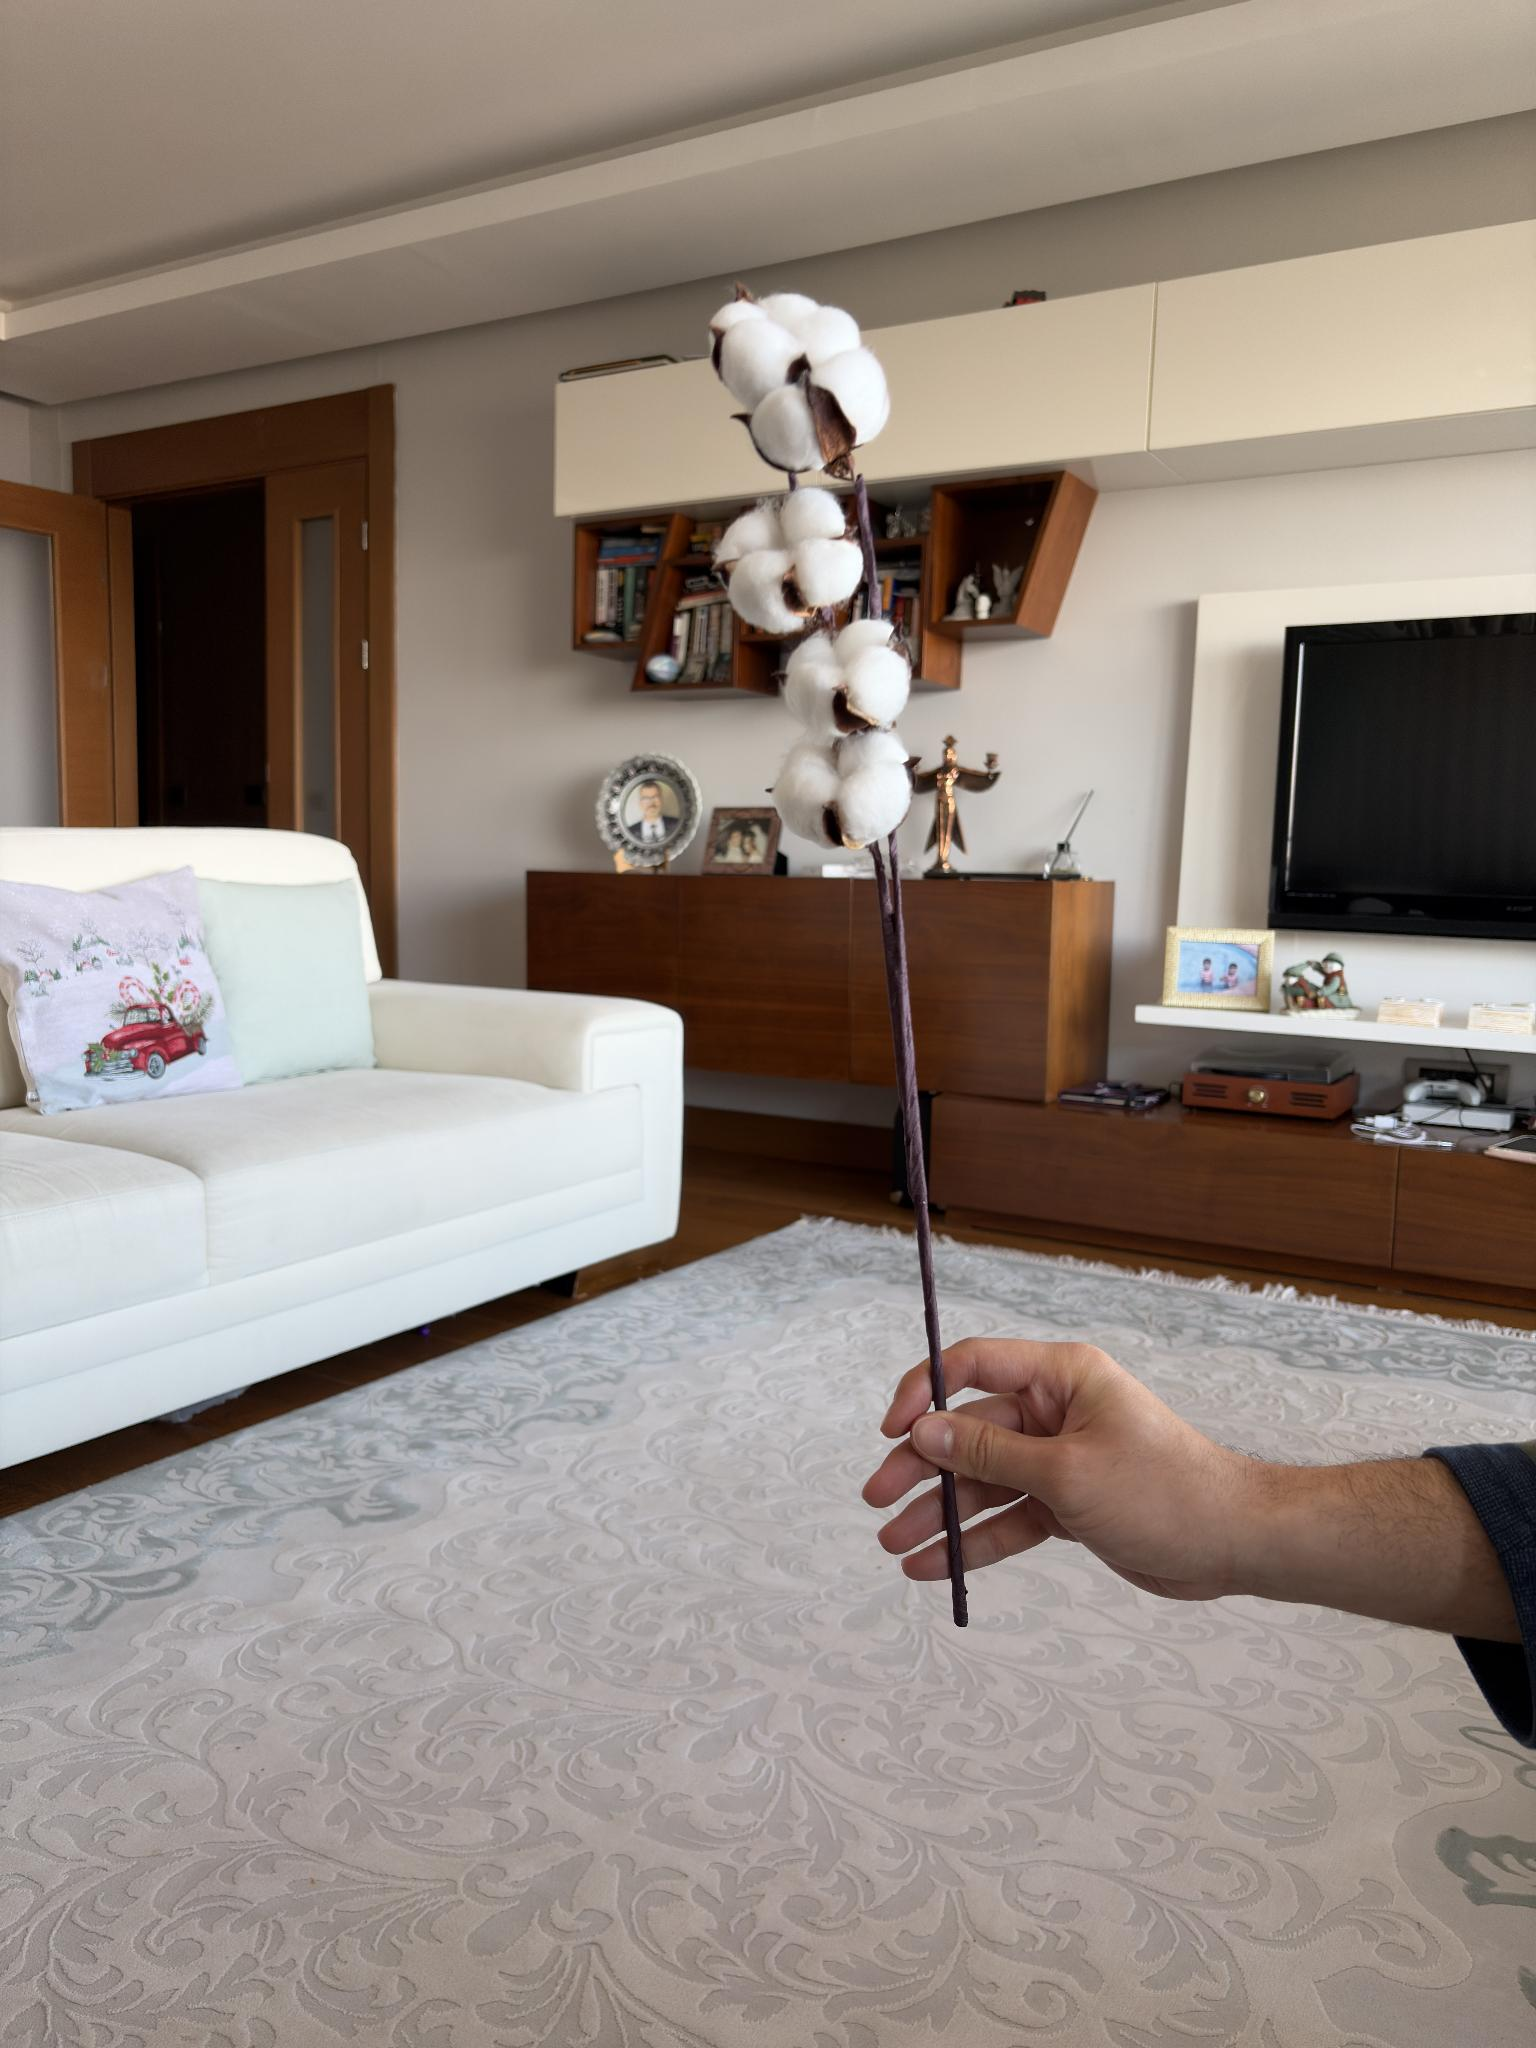cotton_boll: (834, 731, 912, 847), (810, 347, 891, 447), (718, 318, 802, 413), (737, 381, 823, 472), (771, 739, 841, 847), (762, 293, 860, 368), (837, 626, 908, 727), (729, 548, 812, 634), (784, 635, 844, 742), (839, 645, 910, 729), (792, 537, 862, 608), (715, 500, 784, 566), (710, 293, 766, 373), (781, 487, 845, 545), (837, 619, 892, 663)
cotton_boll-cluster: (678, 284, 899, 479), (718, 482, 863, 637), (770, 610, 936, 737), (763, 721, 918, 855)
